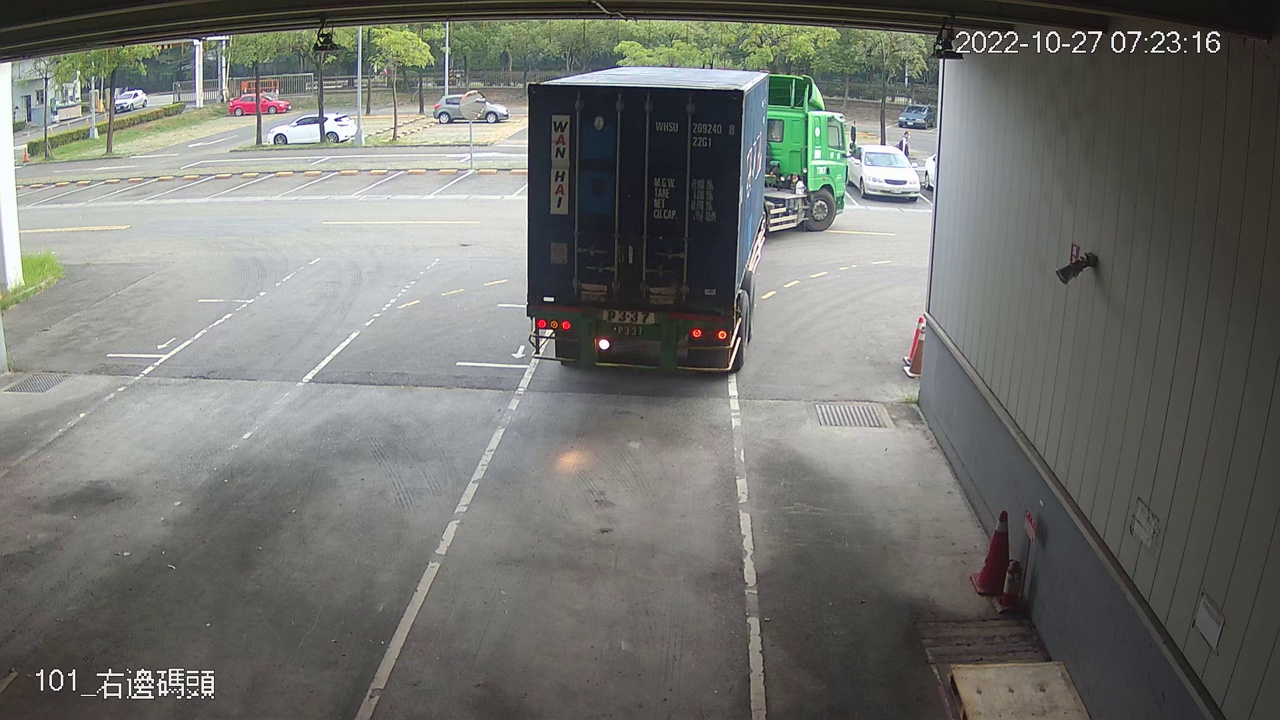container: (651, 115, 740, 153)
